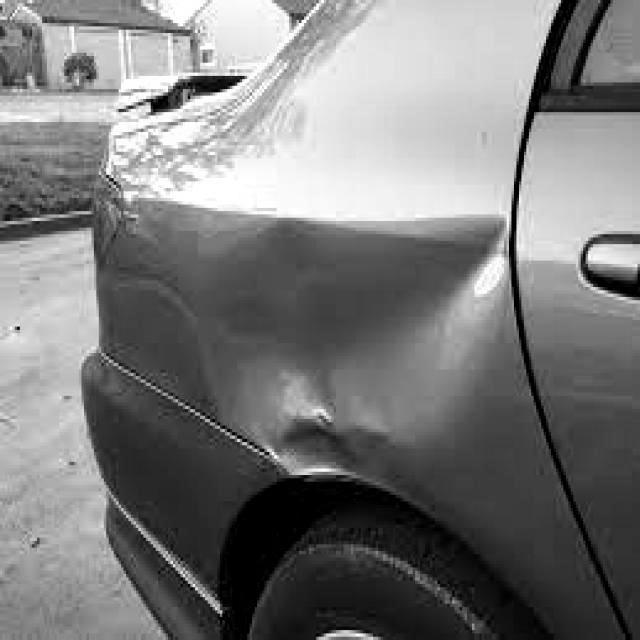quaterpanel-dent: (248, 133, 507, 568)
